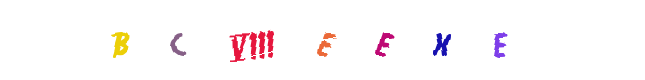8: (244, 0, 324, 80)
B: (80, 0, 160, 80)
C: (137, 0, 217, 80)
E: (255, 0, 335, 80), (283, 0, 363, 80), (450, 0, 530, 80)
X: (402, 0, 482, 80)
